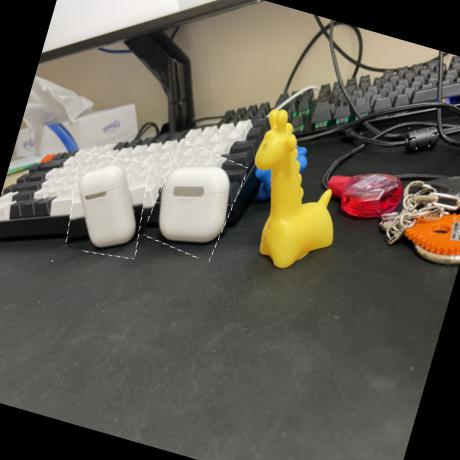airpod2: (57, 147, 157, 264)
airpod3: (143, 140, 246, 262)
